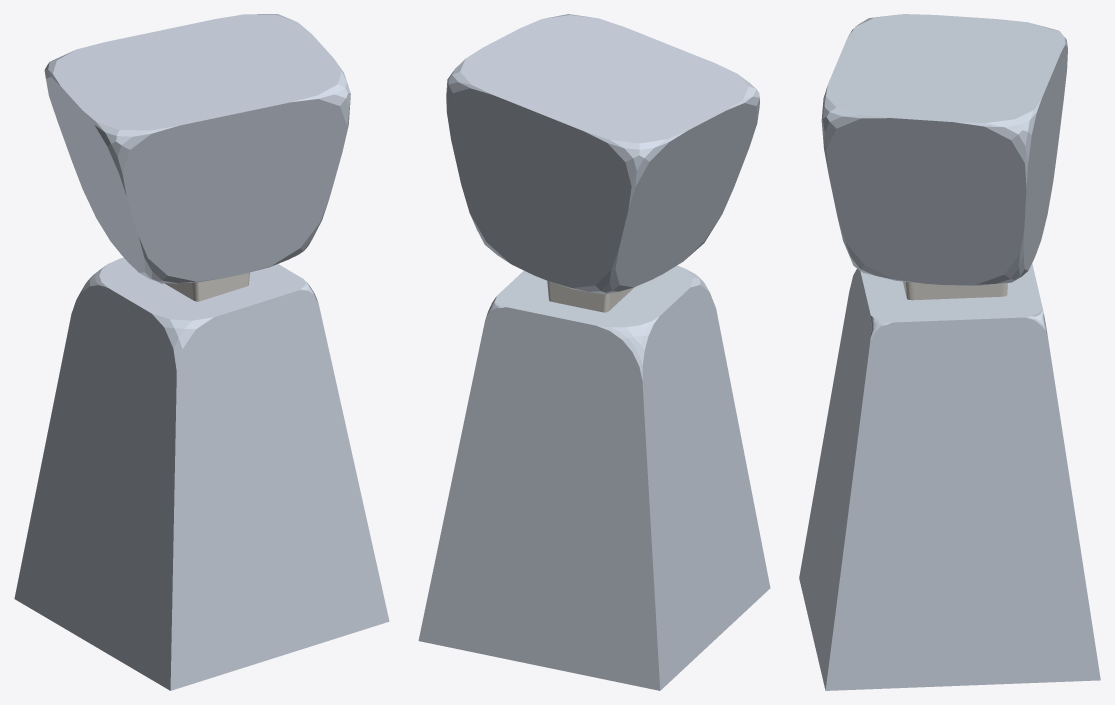
The model's file is 光小人_sss.fbx.
3 views of the same model, side by side, from view 1: azimuth 30°, elevation 25°; view 2: azimuth 150°, elevation 25°; view 3: azimuth 270°, elevation 25° (orthographic). The views are drawn at different scales.
Visible parts, largest first — view 1: 立方体.009; view 2: 立方体.009; view 3: 立方体.009.
Boxes of the visible parts, x1=… form: 立方体.009: x1=14, y1=14, x2=389, y2=690; 立方体.009: x1=418, y1=14, x2=770, y2=690; 立方体.009: x1=799, y1=14, x2=1100, y2=690.
Bounding box in the file's own units: 153 × 312 × 151.
